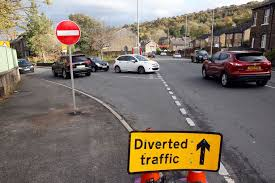No_entry: (55, 20, 81, 45)
